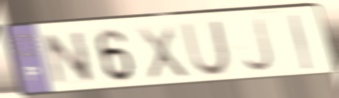6: (94, 27, 137, 85)
I: (287, 13, 314, 72)
J: (241, 16, 277, 75)
N: (42, 29, 98, 89)
U: (180, 18, 233, 78)
X: (134, 23, 191, 82)
